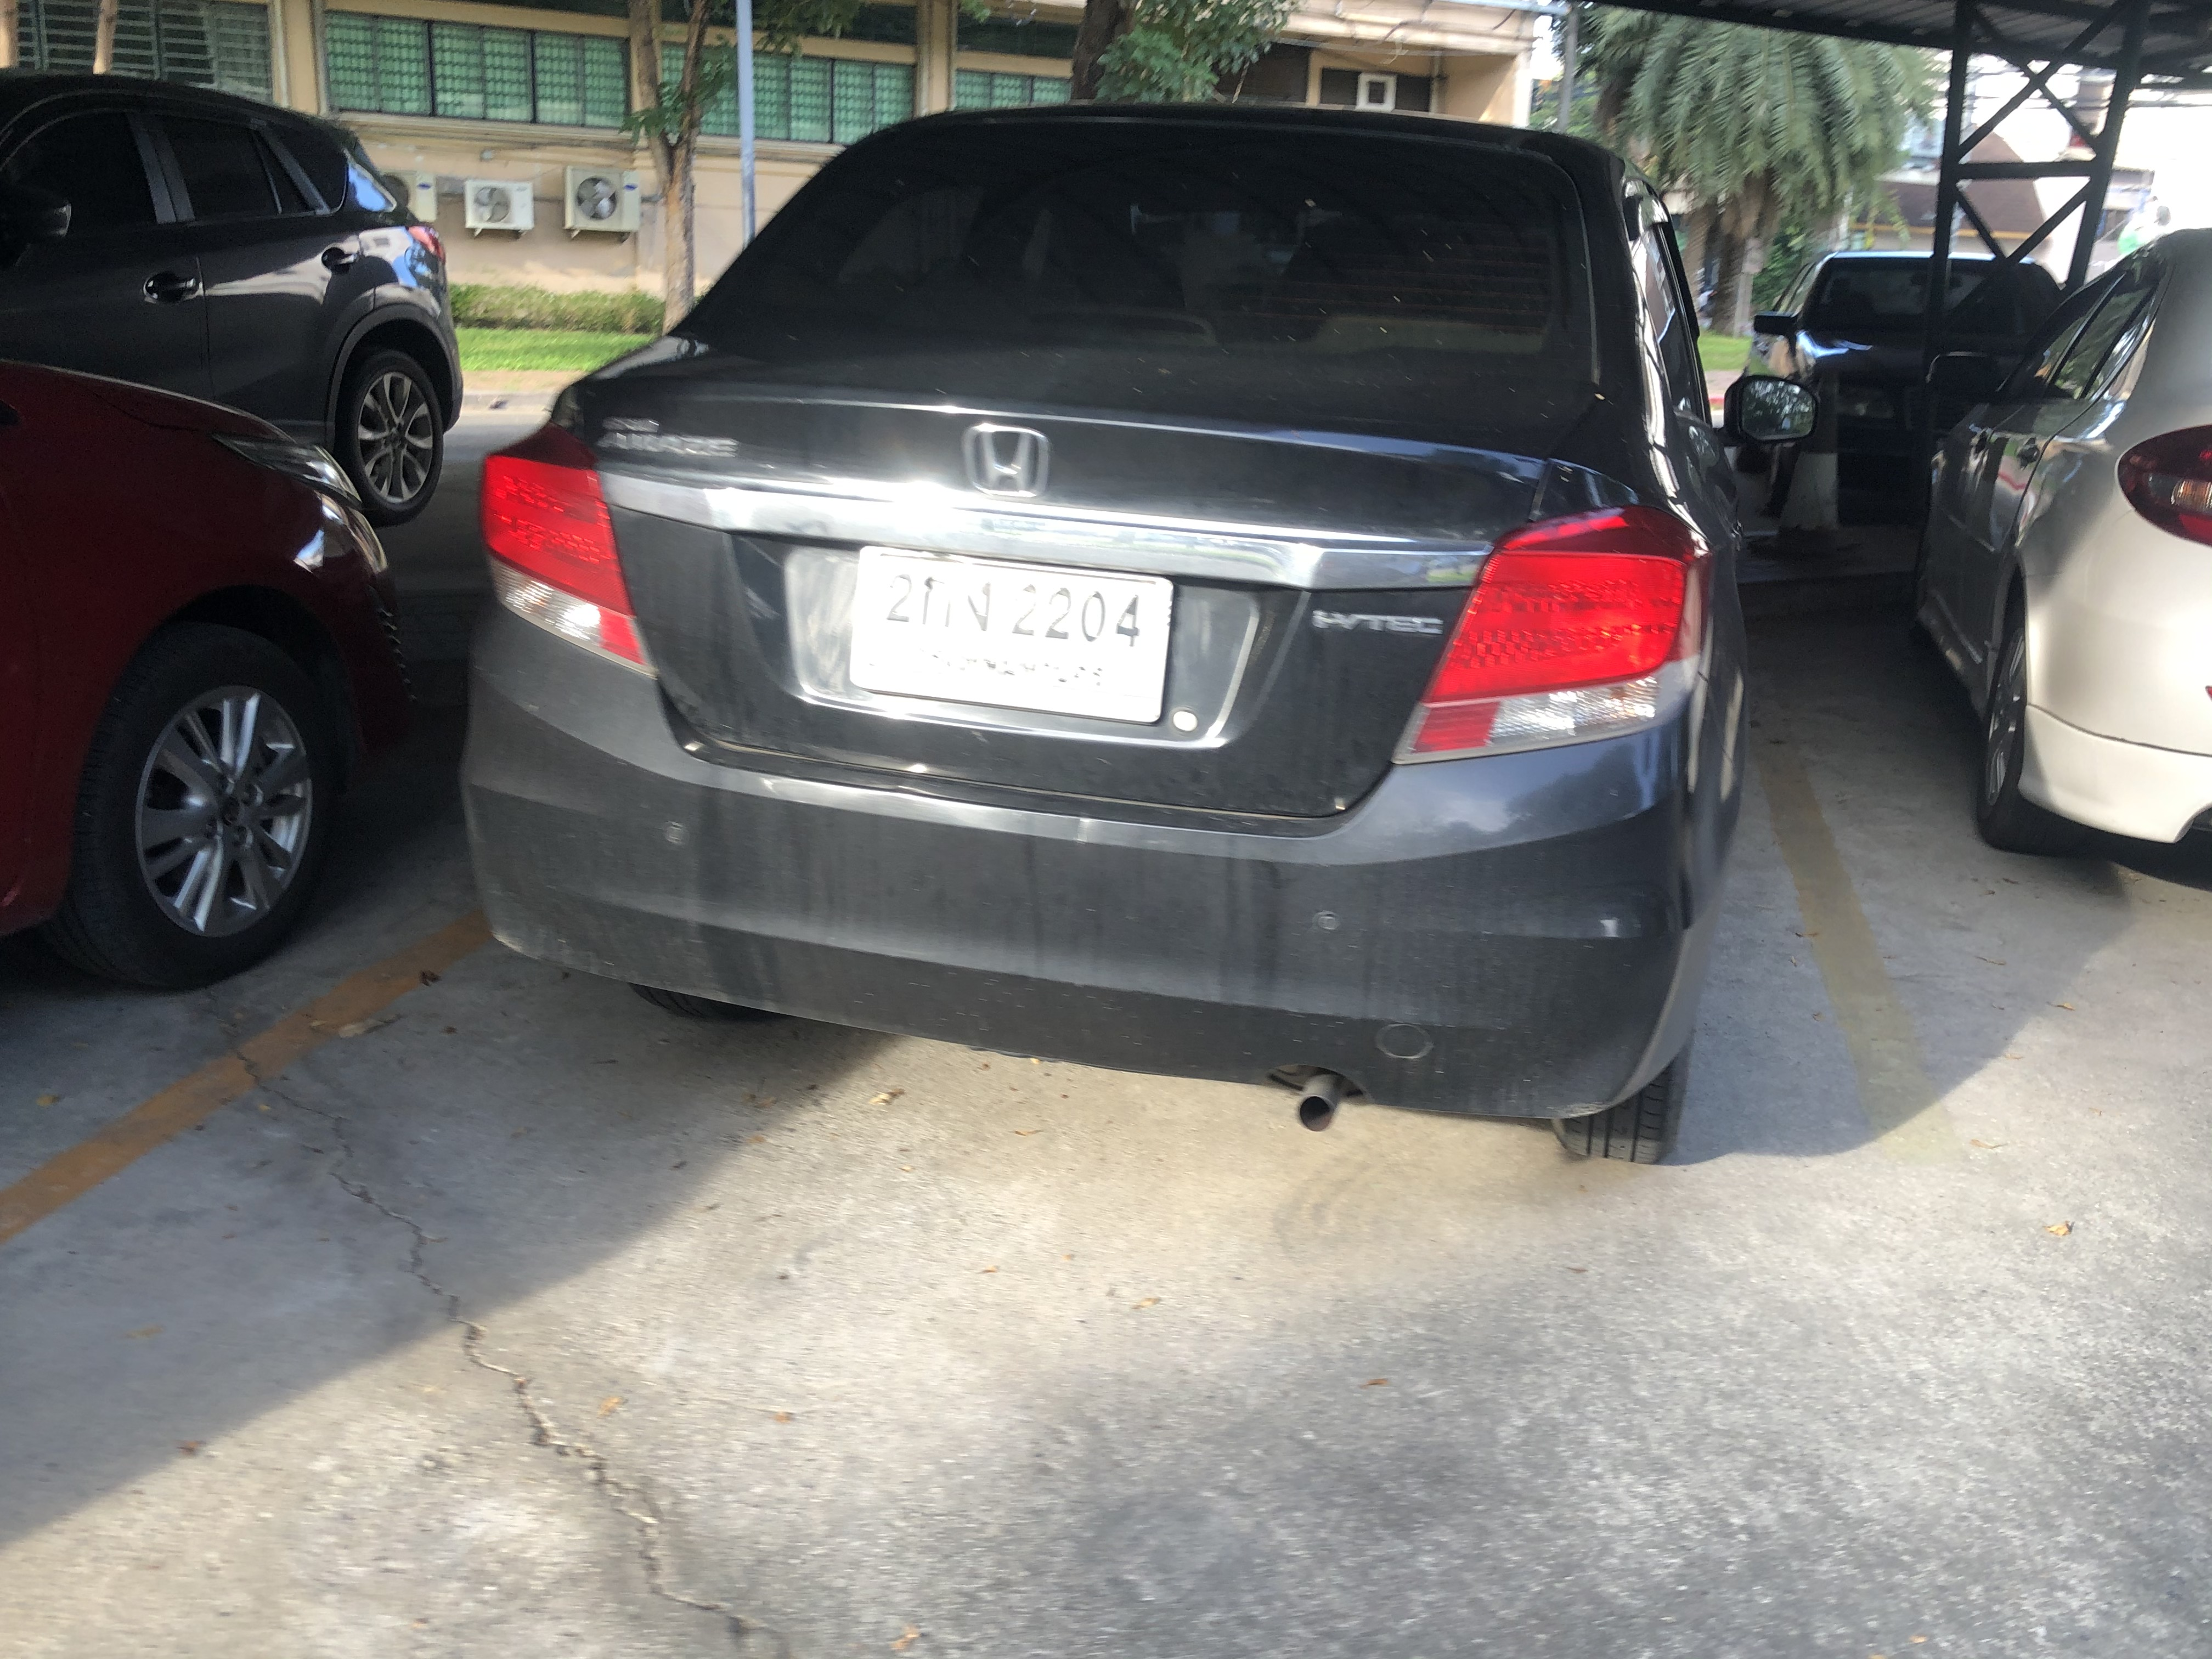in: (874, 558, 1153, 706)
out: (845, 535, 1179, 728)
